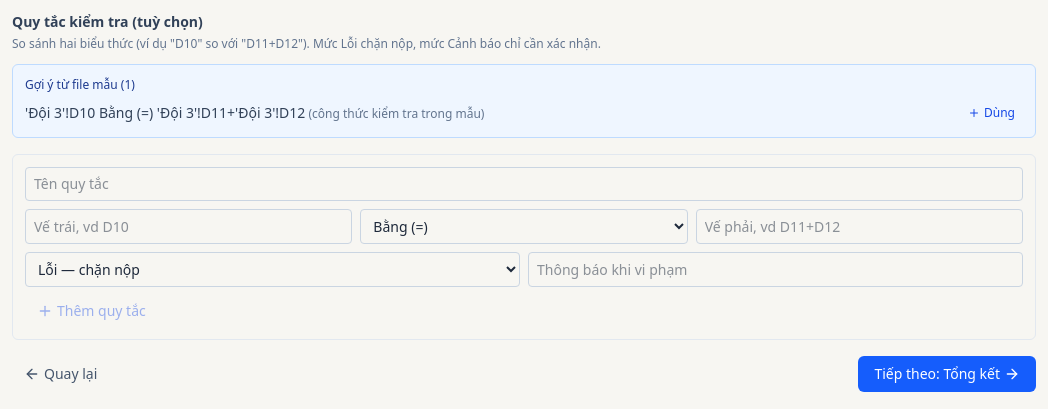
Test case: ReportRulesStep (S36, PR9 slice 1) › suggestions from the template › a used suggestion is not offered again
Click the button "Dùng" at coordinates (992, 113), box [960,101,1023,125]
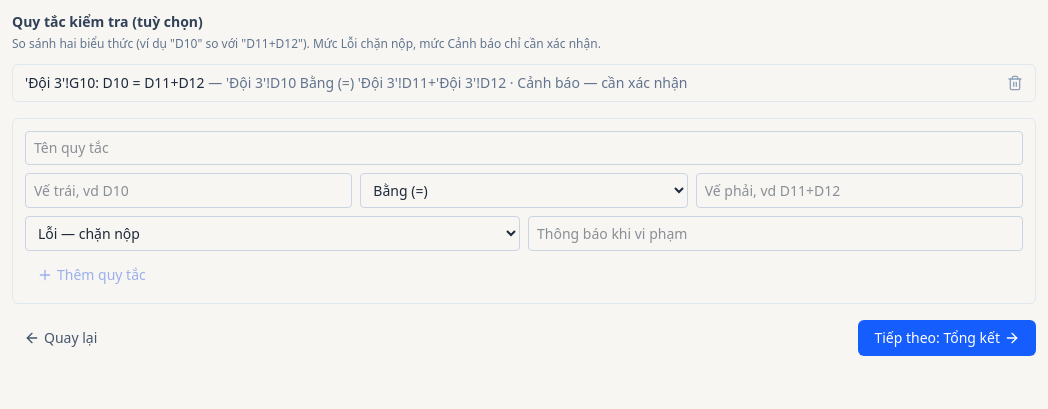
Expected: the element with test id "rule-suggestions" is gone
Expected: the list item with test id "rule-row-0" is shown, [25,73,1023,92]
